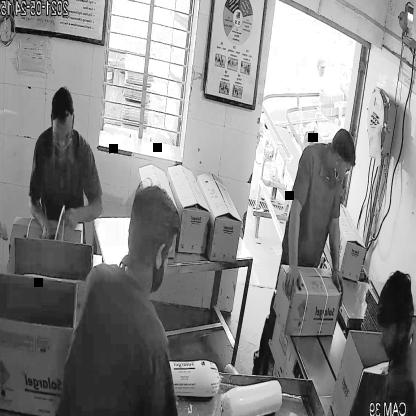goggles: (51, 125, 75, 150)
